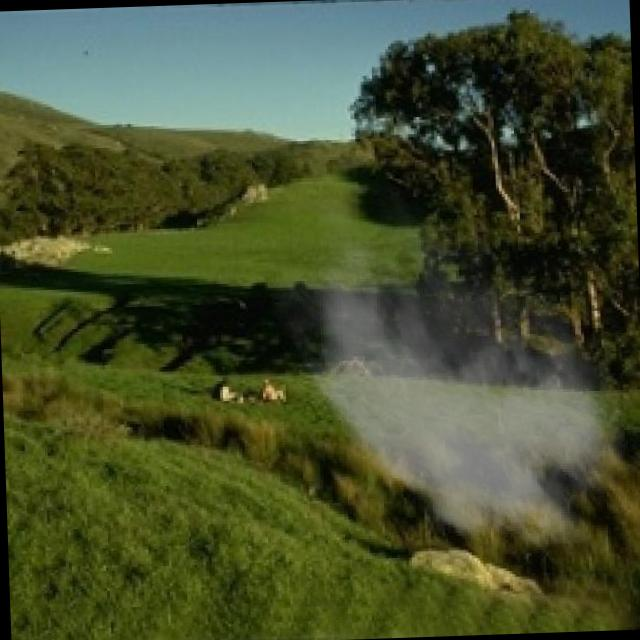Smoke: (261, 178, 640, 574)
